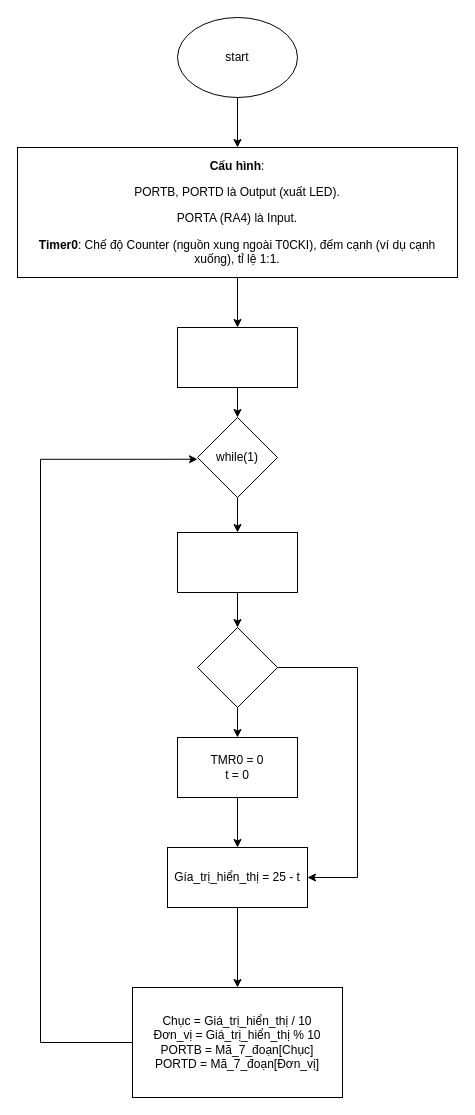
Image size: 475x1115. Some labels were removed from this diagram. The shapes that lost their labels are listed below. From the top down, each one's centre as x and y in pixels, then its label:
At (237,357): "Khởi tạo : Gán giá trị thanh ghi đếm TMR0 = 0".
At (237,562): "Đọc giá trị TMR0 vào biến t".
At (237,667): "t > 25".
